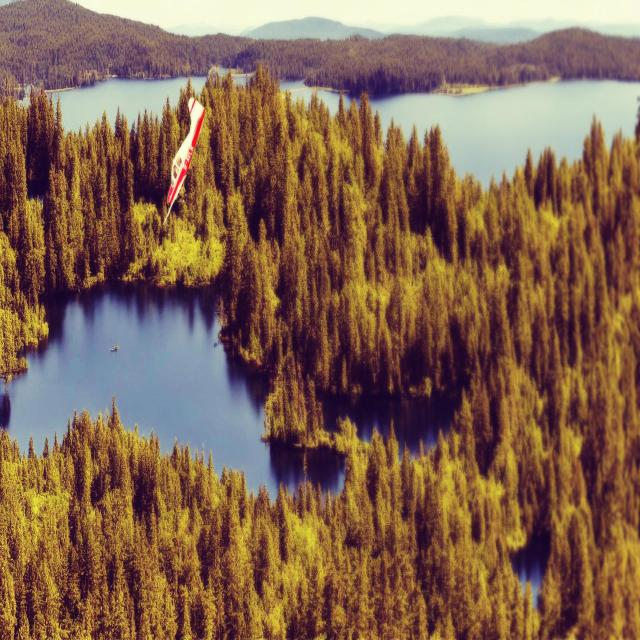airplane: (162, 96, 205, 226)
